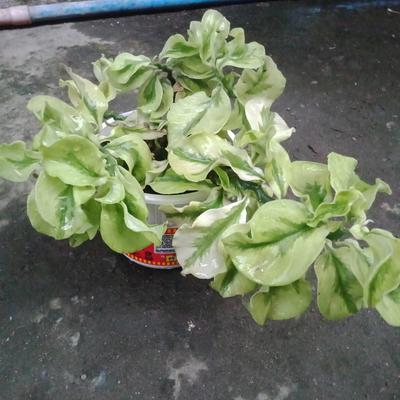Pothos plant: (70, 47, 360, 277)
